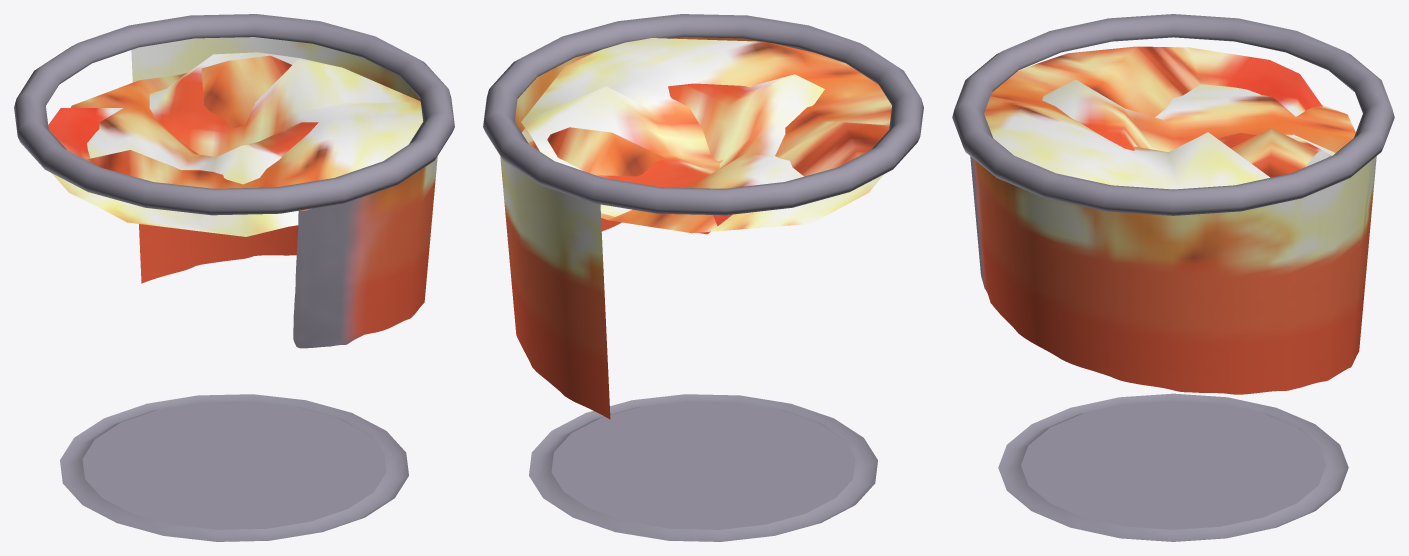
File: Popcorn Full.fbx
The picture shows the model from 3 angles, left to right: view 1: azimuth 30°, elevation 25°; view 2: azimuth 150°, elevation 25°; view 3: azimuth 270°, elevation 25°; orthographic projection.
Visible parts, largest first — view 1: Popcorn Full; view 2: Popcorn Full; view 3: Popcorn Full.
Boxes of the visible parts, x1,y1,x2,y2 form: Popcorn Full: [14, 14, 454, 541]; Popcorn Full: [483, 14, 923, 541]; Popcorn Full: [952, 14, 1394, 541].
Size of the model in its own units: 26.27 by 24.79 by 26.27.
